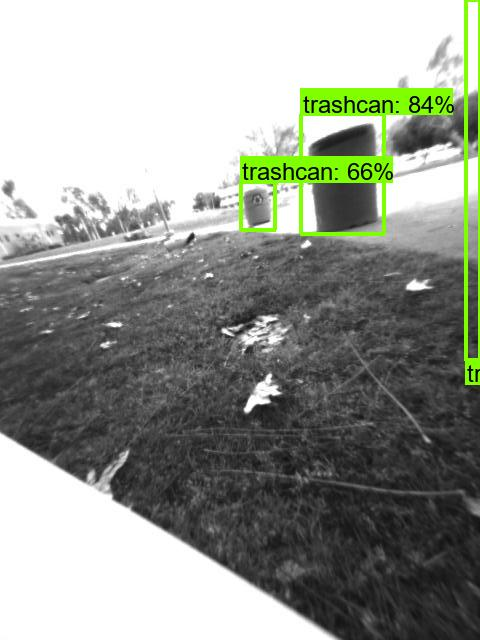trashcan: (305, 120, 387, 235), (237, 187, 276, 230)
